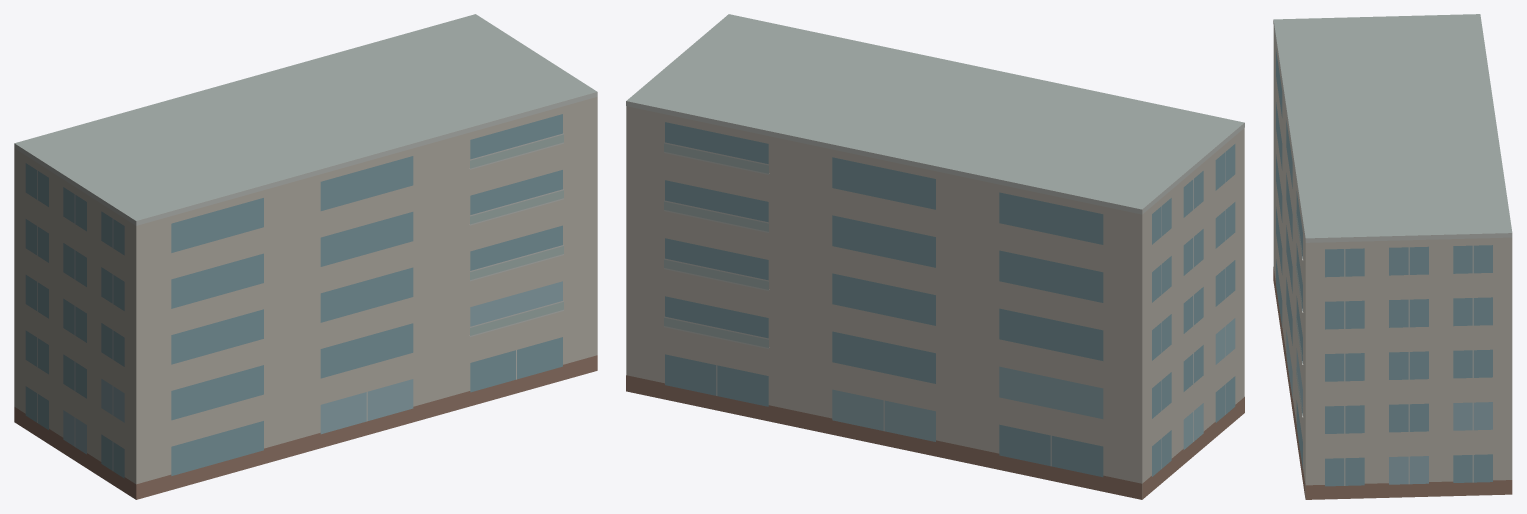
Rendered from survey-upis-32671510.glb.
The picture shows the model from 3 angles, left to right: view 1: azimuth 30°, elevation 25°; view 2: azimuth 150°, elevation 25°; view 3: azimuth 270°, elevation 25°; orthographic projection. The views are drawn at different scales.
Parts seen in each view (by area): view 1: survey-upis-32671510.tmp; view 2: survey-upis-32671510.tmp; view 3: survey-upis-32671510.tmp.
Boxes of the visible parts, x1,y1,x2,y2 form: survey-upis-32671510.tmp: (14, 14, 597, 499); survey-upis-32671510.tmp: (626, 14, 1244, 499); survey-upis-32671510.tmp: (1273, 14, 1512, 499).
Bounding box in the file's own units: 25.77 × 14 × 11.6.
